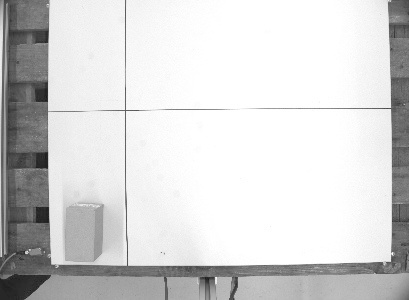b2: (62, 199, 106, 263)
